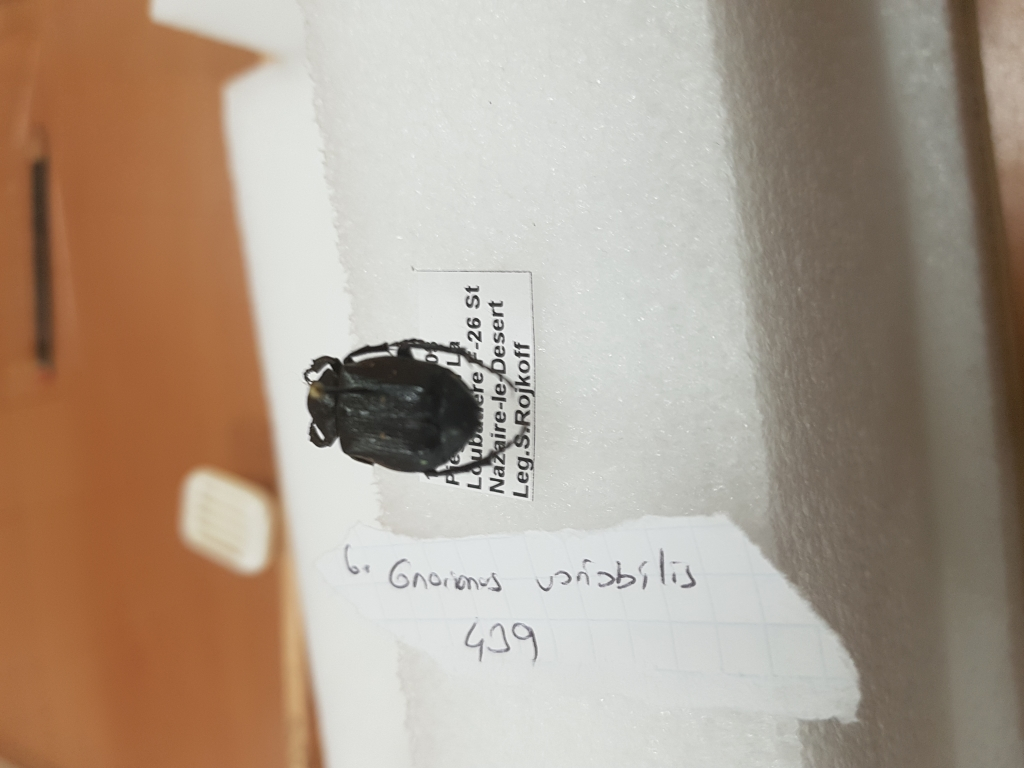Gnorimus_variabilis: (288, 332, 527, 475)
